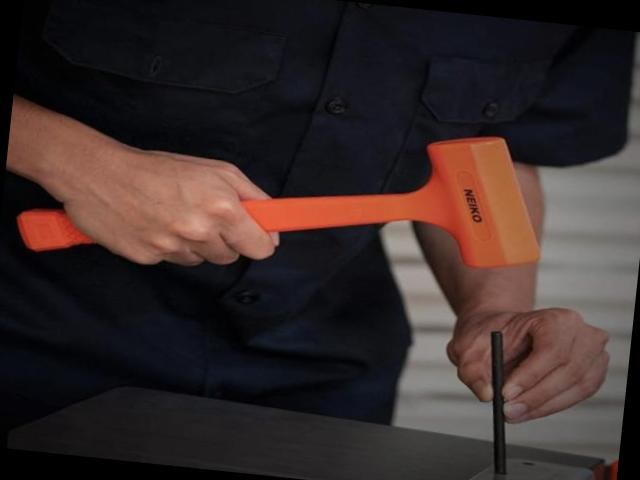hammer: (13, 84, 550, 306)
